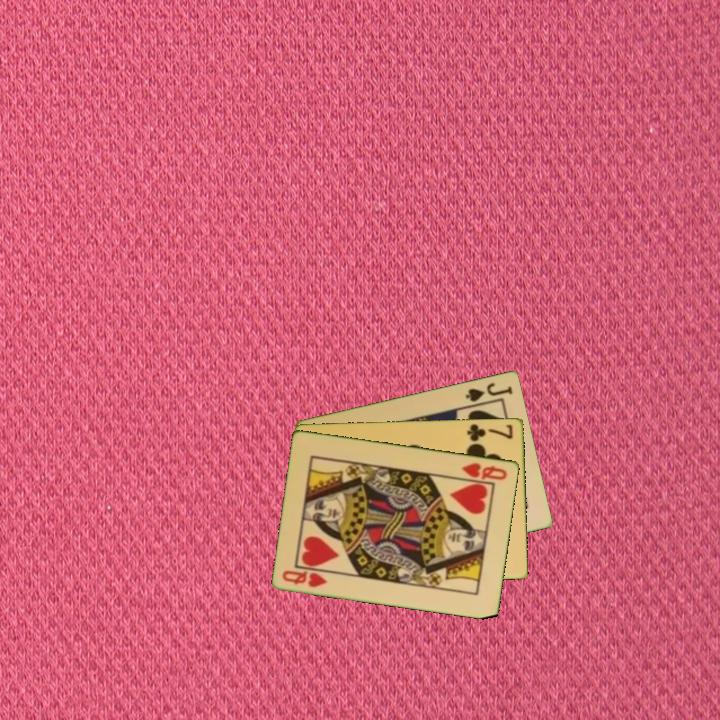7c: (464, 420, 516, 444)
Js: (462, 379, 516, 404)
Qh: (459, 459, 510, 483), (279, 566, 330, 590)
